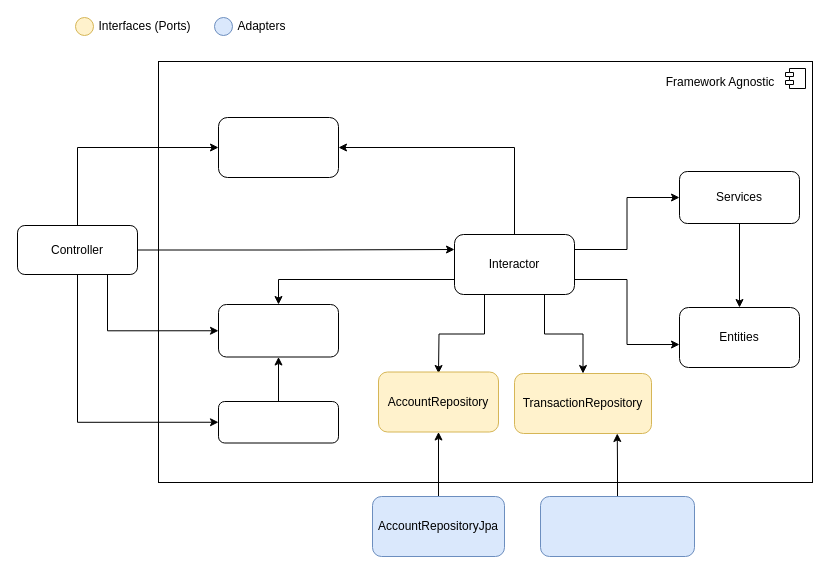
Some shapes in this 830 by 574 pixel diagram are drawn without their labels. Each missing label, with the box of its shape:
Presenter: (218, 400, 338, 443)
Request: (218, 116, 338, 178)
Response: (218, 304, 338, 357)
TransactionRepositoryJpa: (540, 496, 694, 556)
